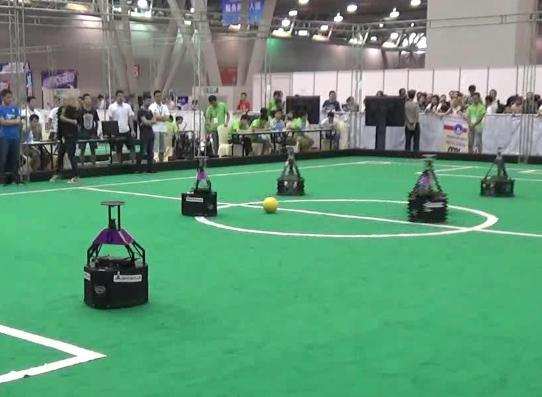robot: (76, 198, 155, 312), (406, 152, 450, 227), (178, 154, 222, 218), (478, 142, 519, 200), (275, 144, 306, 197)
